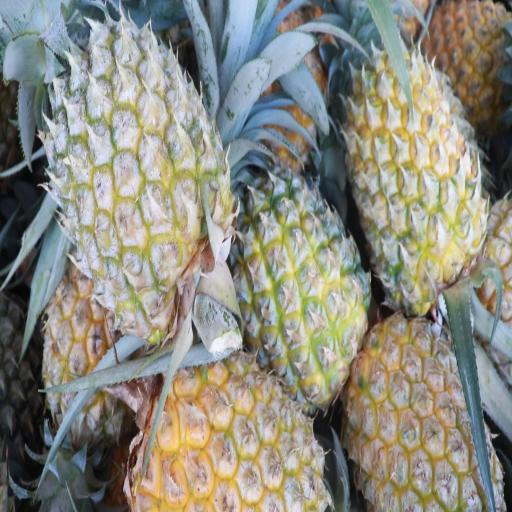------------------------------: (52, 25, 226, 313), (233, 170, 370, 392), (41, 274, 135, 446)
Pineapple - v8 v1: (352, 50, 487, 299), (136, 352, 334, 512), (347, 315, 499, 512), (425, 0, 512, 113)
